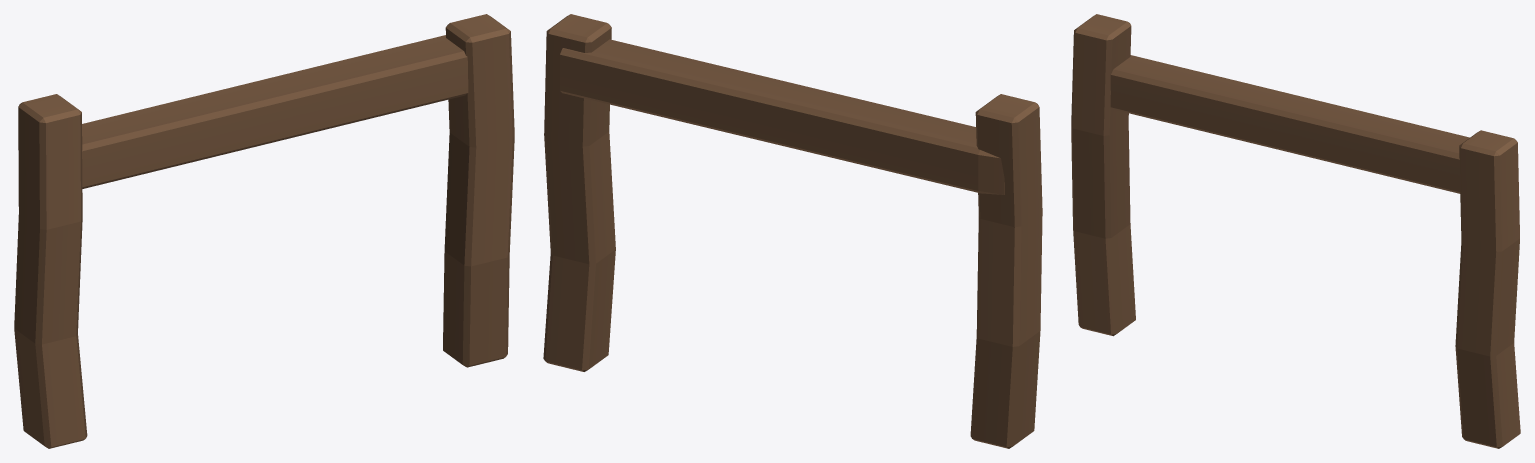
File: çit.fbx
3 views of the same model, side by side, from view 1: azimuth 30°, elevation 25°; view 2: azimuth 150°, elevation 25°; view 3: azimuth 330°, elevation 25° (orthographic). The views are drawn at different scales.
Visible parts, largest first — view 1: Platform_2.001; view 2: Platform_2.001; view 3: Platform_2.001.
Part boxes in pixels (<box>): Platform_2.001: <box>14,14,514,448</box>; Platform_2.001: <box>543,14,1042,448</box>; Platform_2.001: <box>1071,14,1520,448</box>.
Size of the model in its own units: 434 by 309 by 47.99.
Materials: 1 (1 with a texture image).
